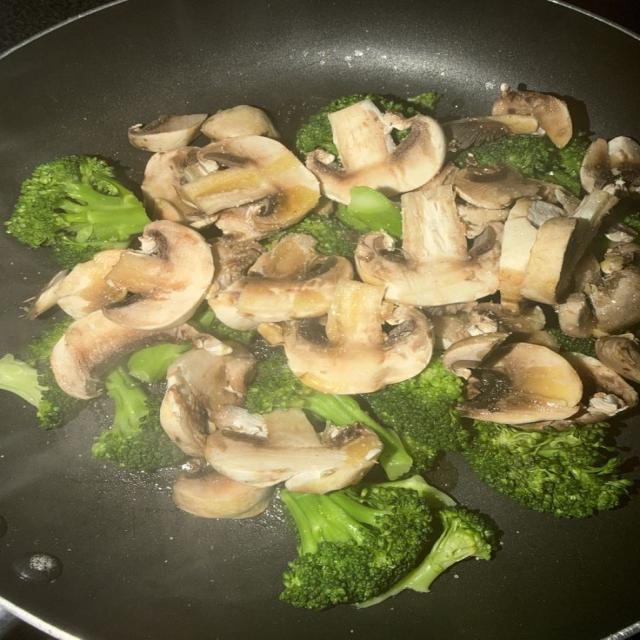broccoli: (246, 349, 413, 479), (280, 477, 432, 609), (465, 422, 631, 518), (6, 156, 148, 268), (358, 507, 496, 607), (366, 356, 469, 471), (92, 366, 185, 472), (295, 92, 439, 156), (0, 319, 79, 429), (454, 134, 589, 195), (266, 213, 357, 259), (336, 186, 402, 238), (190, 305, 258, 345), (127, 342, 192, 382), (0, 354, 43, 407), (546, 328, 596, 357), (623, 211, 639, 234)
champignon mushrooms: (356, 186, 500, 307), (281, 281, 431, 394), (205, 405, 382, 493), (50, 311, 221, 399), (306, 99, 446, 204), (177, 135, 319, 231), (210, 234, 352, 328), (103, 221, 214, 329), (160, 343, 257, 456), (465, 343, 583, 424), (29, 250, 126, 318), (427, 303, 545, 348), (493, 84, 572, 147), (172, 470, 272, 519), (521, 218, 576, 303), (142, 146, 198, 223), (500, 198, 537, 303), (453, 163, 537, 208), (588, 266, 639, 333), (210, 237, 263, 292), (129, 114, 207, 151), (447, 114, 537, 146), (201, 105, 278, 140), (596, 334, 639, 382), (557, 294, 593, 336), (600, 242, 639, 274)
